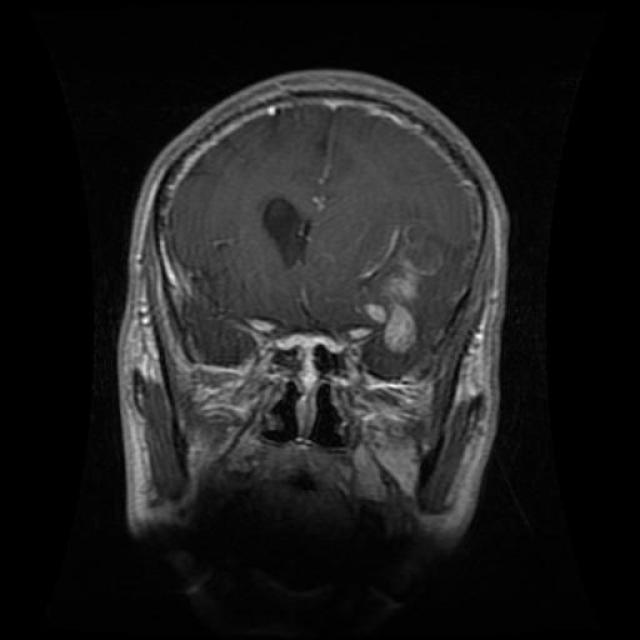glioma: (245, 183, 322, 281)
